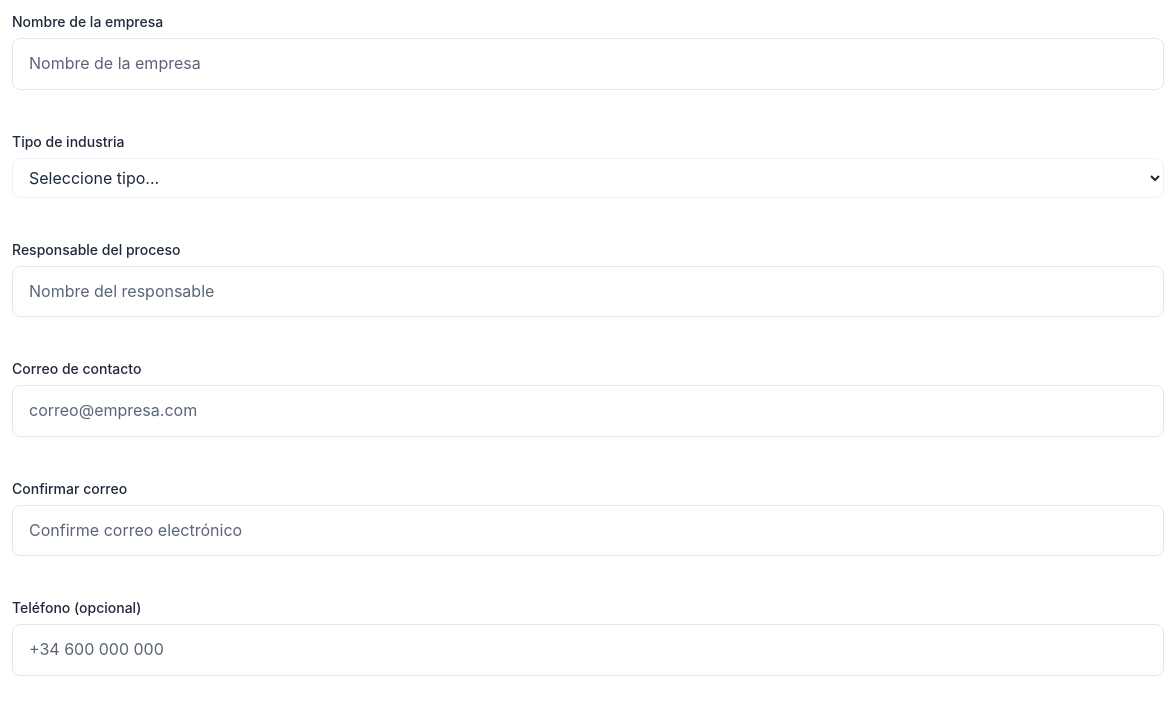
Test: CompanyForm › shows the duplicate-name warning and "create anyway" checkbox
Type "acme inc" into the field with placeholder "Nombre de la empresa".
click(588, 64); type("acme inc")  # box [12, 38, 1164, 90]
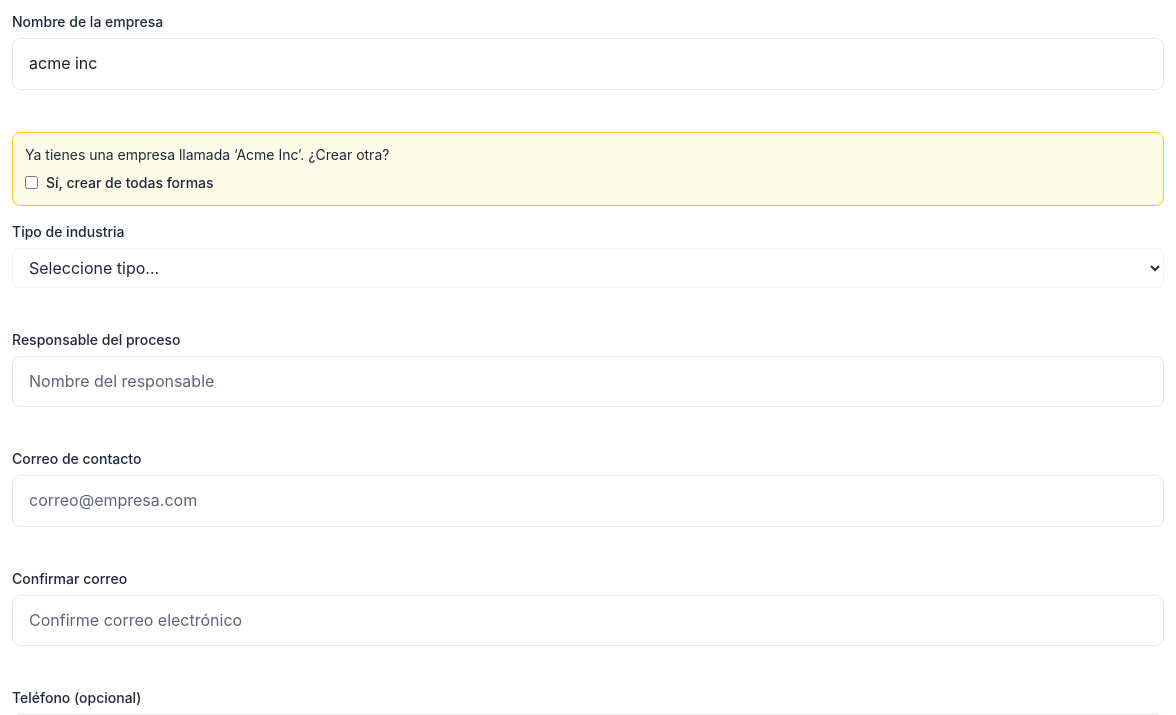
Expected: the text "Ya tienes una empresa llamada ‘Acme Inc’. ¿Crear otra?" is shown, [25, 146, 389, 163]
Expected: the checkbox labelled "Sí, crear de todas formas" is shown, [25, 176, 38, 189]
